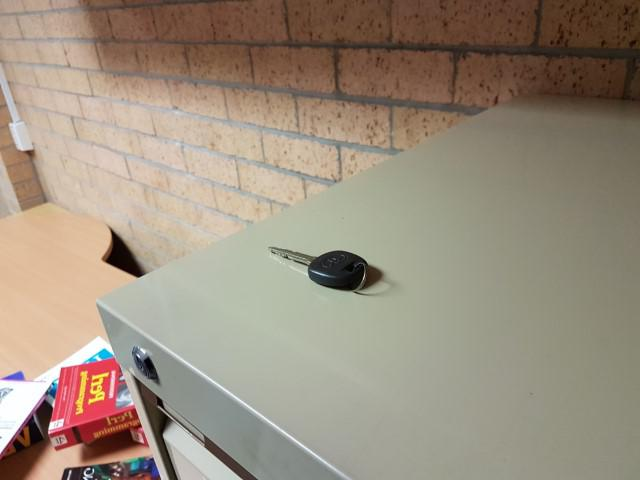key: (268, 244, 368, 288)
